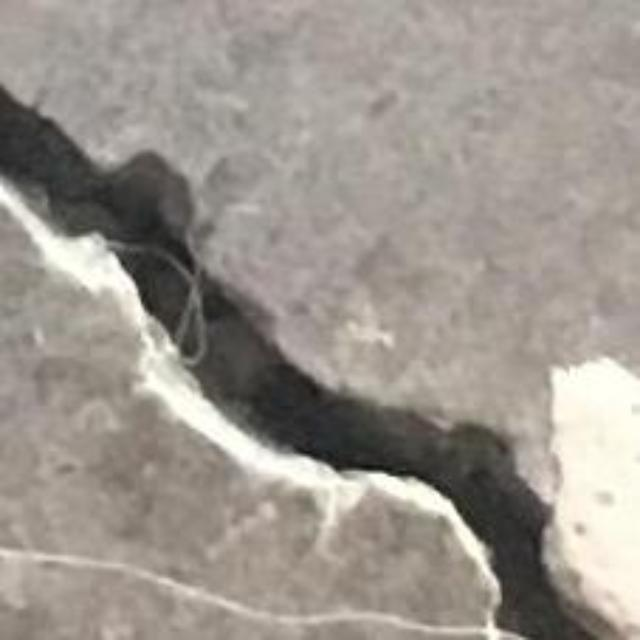crack: (0, 85, 639, 639)
peeling plaster: (545, 359, 639, 639)
